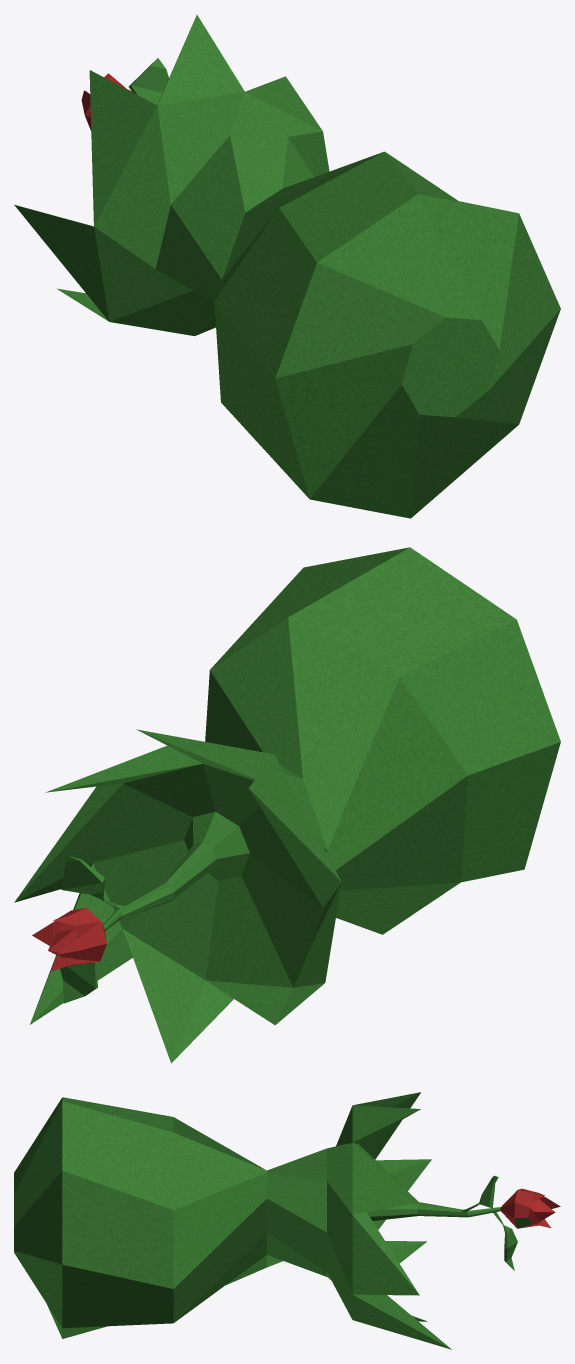
The model's file is all_share_mushroom_4.FBX.
3 renders of one model, top to bottom at view 1: azimuth 30°, elevation 25°; view 2: azimuth 150°, elevation 25°; view 3: azimuth 270°, elevation 25°, orthographic. The views are drawn at different scales.
Visible parts, largest first — view 1: mushroom_4; view 2: mushroom_4; view 3: mushroom_4.
Boxes of the visible parts, <box> form: mushroom_4: <box>14,15,560,518</box>; mushroom_4: <box>14,547,560,1063</box>; mushroom_4: <box>14,1092,560,1349</box>.
Size of the model in its own units: 83.3 by 85.91 by 177.
